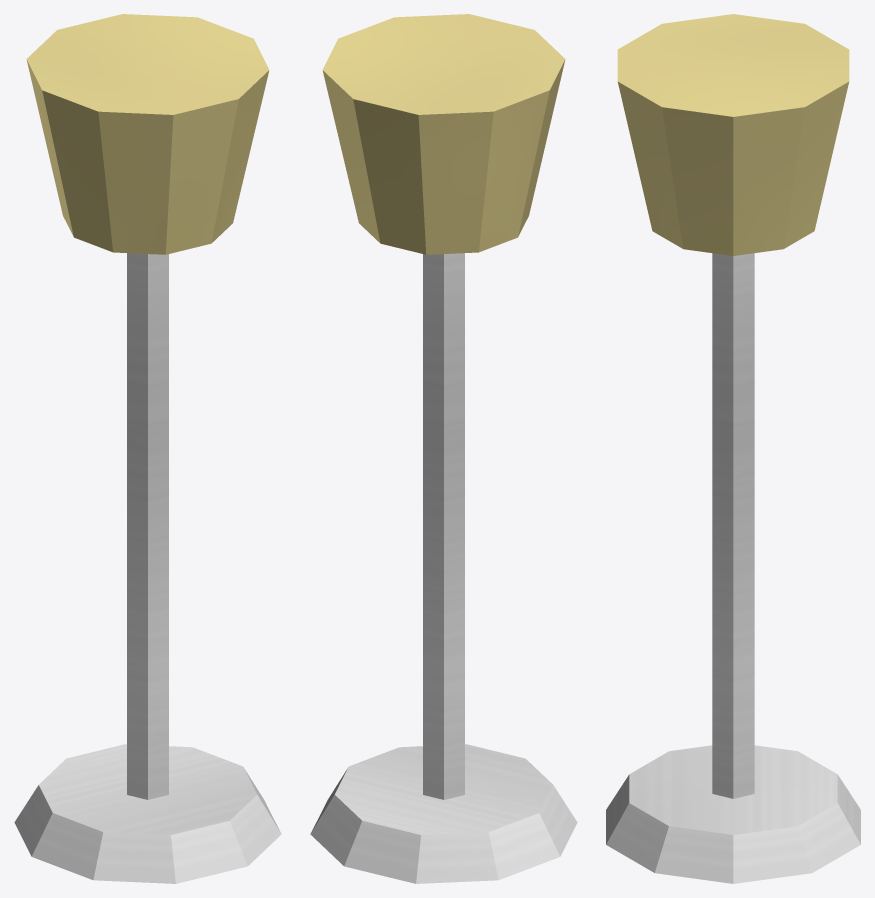
File: standing_lamp.obj
The picture shows the model from 3 angles, left to right: view 1: azimuth 30°, elevation 25°; view 2: azimuth 150°, elevation 25°; view 3: azimuth 270°, elevation 25°; orthographic projection.
Parts seen in each view (by area): view 1: standing_lamp; view 2: standing_lamp; view 3: standing_lamp.
Part boxes in pixels (bbox=[...]): standing_lamp: bbox=[14, 14, 281, 883]; standing_lamp: bbox=[310, 14, 577, 883]; standing_lamp: bbox=[606, 14, 860, 883].
Bounding box in the file's own units: 0.44 × 1.38 × 0.4184.
